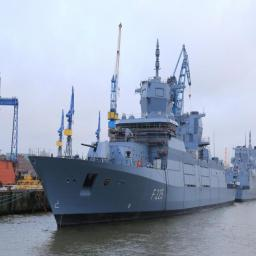Fragata: (28, 35, 240, 232)
